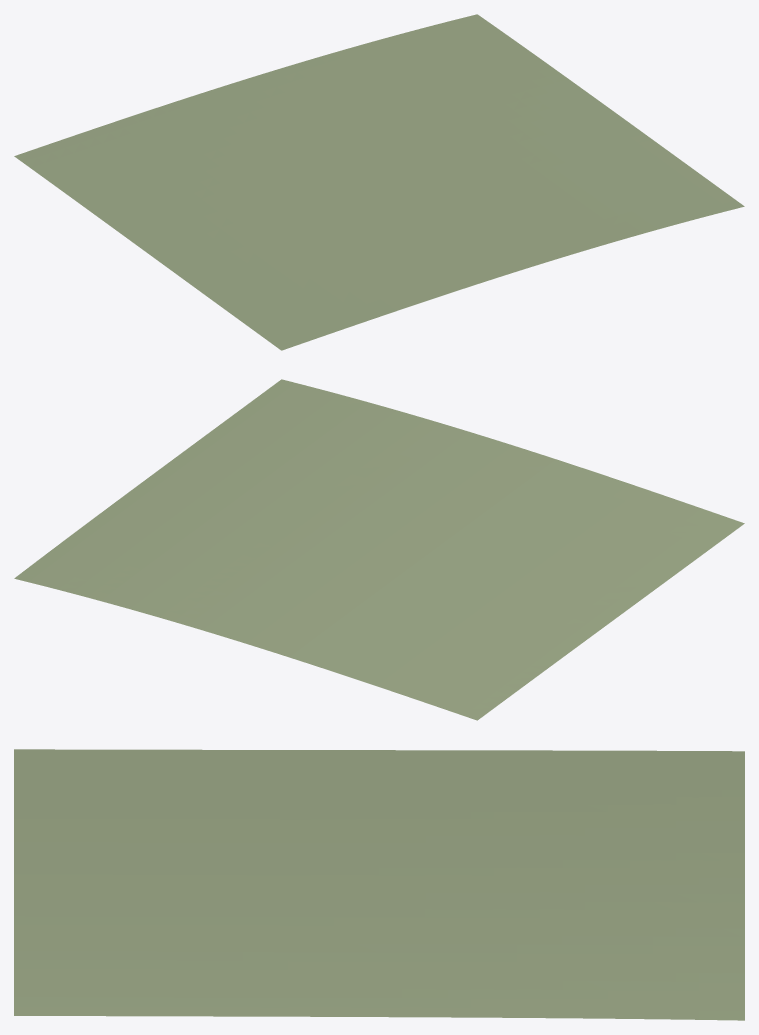
The model's file is valley-10-10.glb.
The picture shows the model from 3 angles, top to bottom: view 1: azimuth 30°, elevation 25°; view 2: azimuth 150°, elevation 25°; view 3: azimuth 270°, elevation 25°; orthographic projection. The views are drawn at different scales.
Parts seen in each view (by area): view 1: valley-10-10; view 2: valley-10-10; view 3: valley-10-10.
Part boxes in pixels (x1,y1,x2,y2): valley-10-10: (14,14,744,350); valley-10-10: (14,379,744,720); valley-10-10: (14,749,744,1020).
Size of the model in its own units: 256 by 17.12 by 256.
